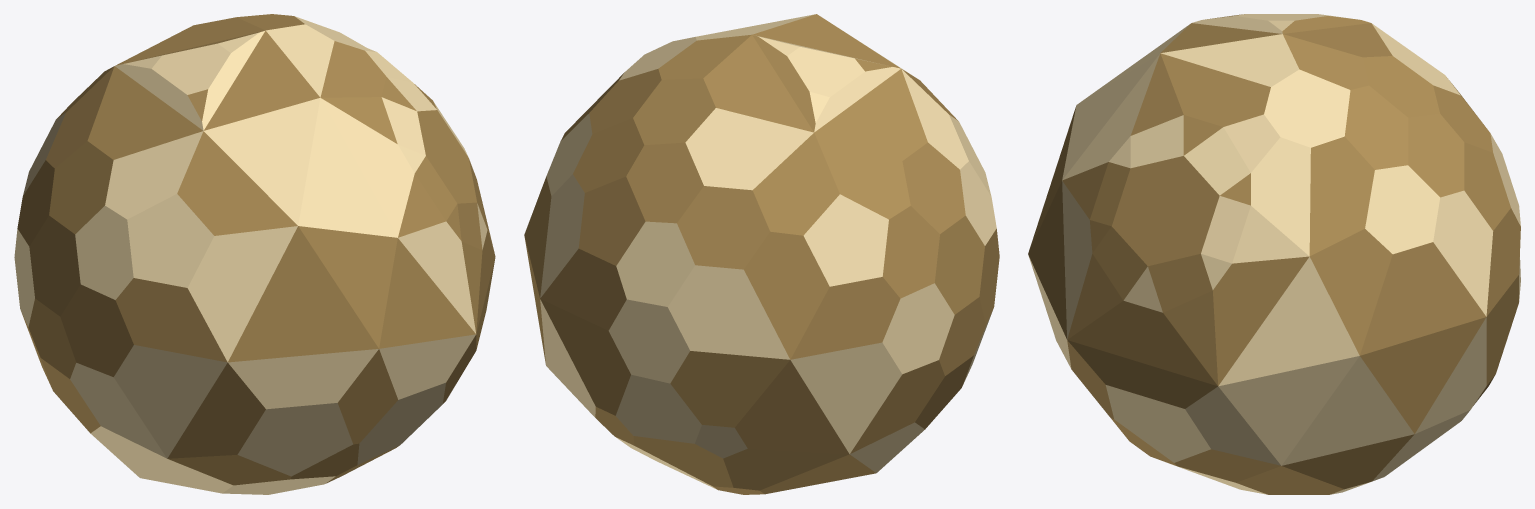
The model's file is Venus.fbx.
3 views of the same model, side by side, from view 1: azimuth 30°, elevation 25°; view 2: azimuth 150°, elevation 25°; view 3: azimuth 270°, elevation 25° (orthographic). The views are drawn at different scales.
Parts seen in each view (by area): view 1: Icosphere; view 2: Icosphere; view 3: Icosphere.
Part boxes in pixels (left/top/right/bottom): Icosphere: left=14, top=14, right=495, bottom=494; Icosphere: left=524, top=14, right=999, bottom=494; Icosphere: left=1028, top=14, right=1520, bottom=494.
Bounding box in the file's own units: 444 × 459 × 450.
